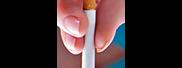Cigarette: (80, 0, 97, 68)
